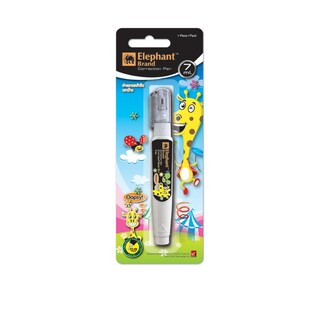Correction_fluid: (144, 84, 178, 249)
